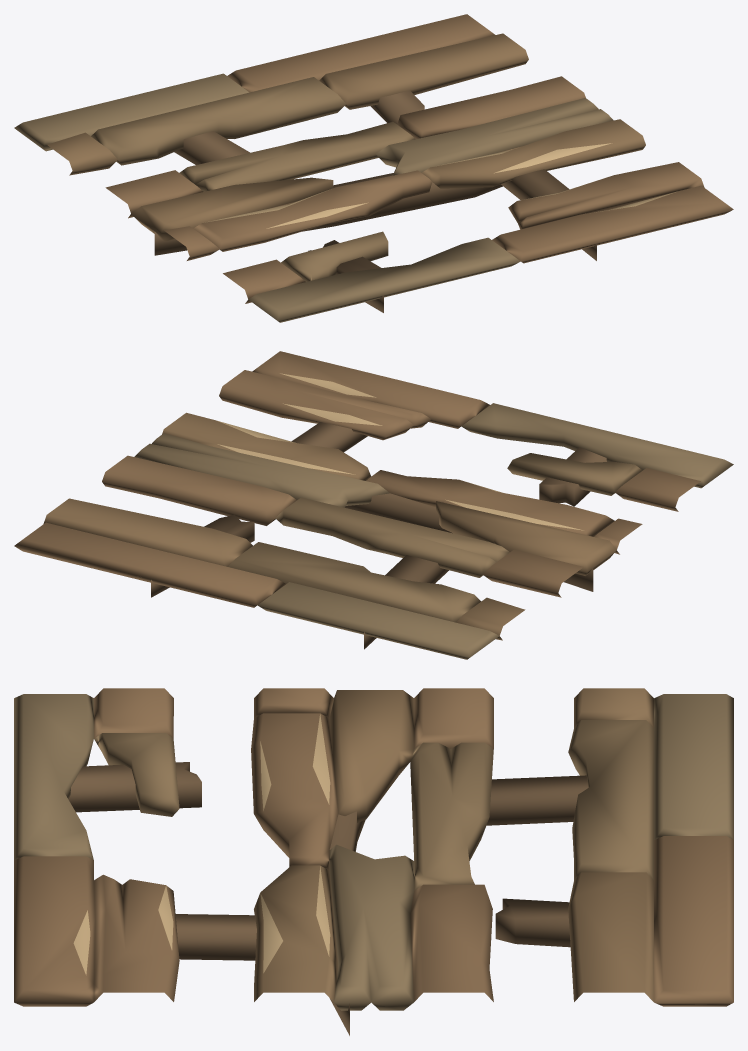
File: rpgpp_av_floor_01d_3x3_2side.gltf
The picture shows the model from 3 angles, top to bottom: view 1: azimuth 30°, elevation 25°; view 2: azimuth 150°, elevation 25°; view 3: azimuth 270°, elevation 25°; orthographic projection. The views are drawn at different scales.
Visible parts, largest first — view 1: rpgpp_av_floor_01d_3x3_2side; view 2: rpgpp_av_floor_01d_3x3_2side; view 3: rpgpp_av_floor_01d_3x3_2side.
Part boxes in pixels (x1=…): rpgpp_av_floor_01d_3x3_2side: x1=14, y1=14, x2=733, y2=322; rpgpp_av_floor_01d_3x3_2side: x1=14, y1=351, x2=733, y2=659; rpgpp_av_floor_01d_3x3_2side: x1=14, y1=688, x2=733, y2=1035.
Bounding box in the file's own units: 0.03 × 0.00215 × 0.03.
Materials: 1 (1 with a texture image).
